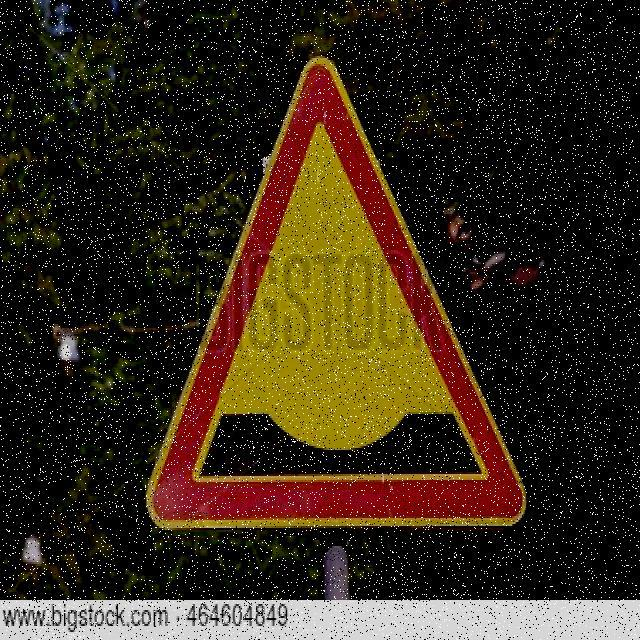Traffic sign: (137, 54, 531, 541)
